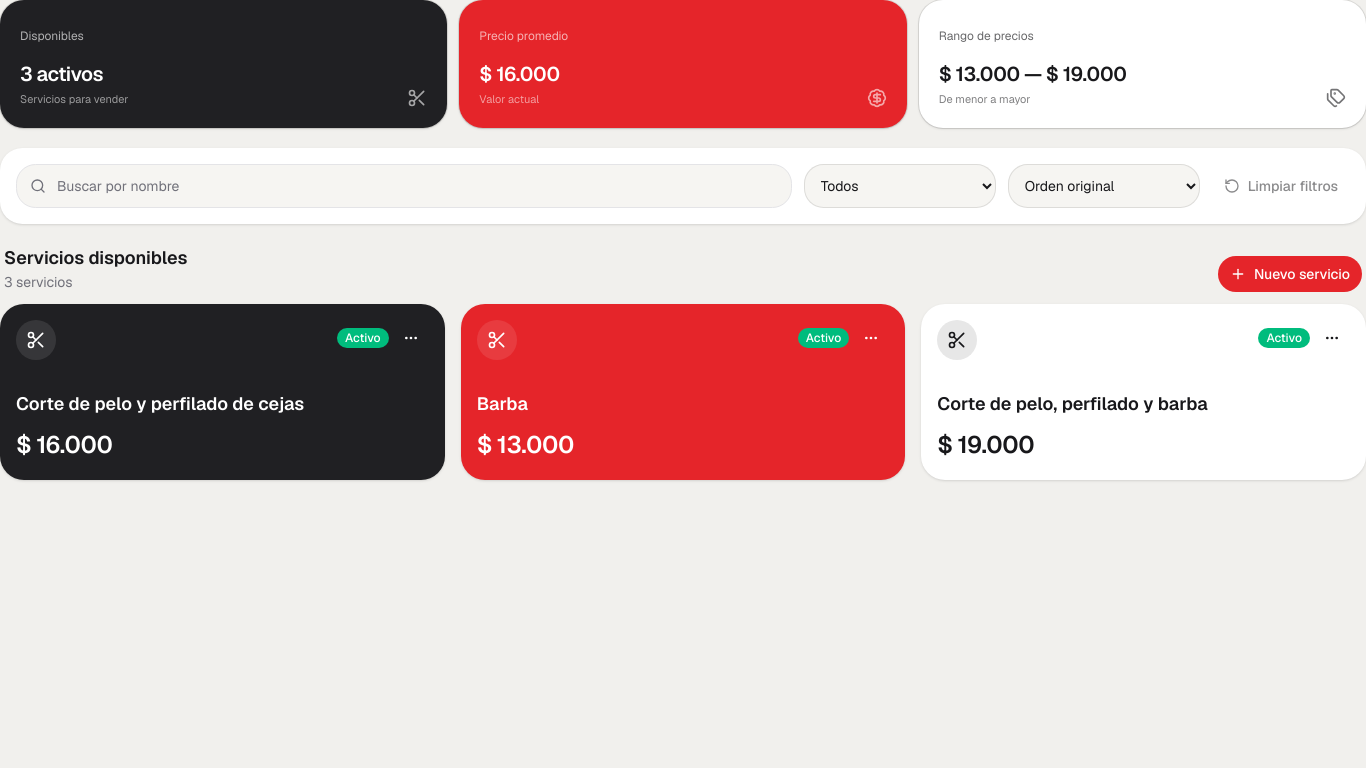
Test: changes service status after confirmation
Step 1. Click the button named "Gestionar Barba" → (871, 338), box [853, 320, 889, 356]
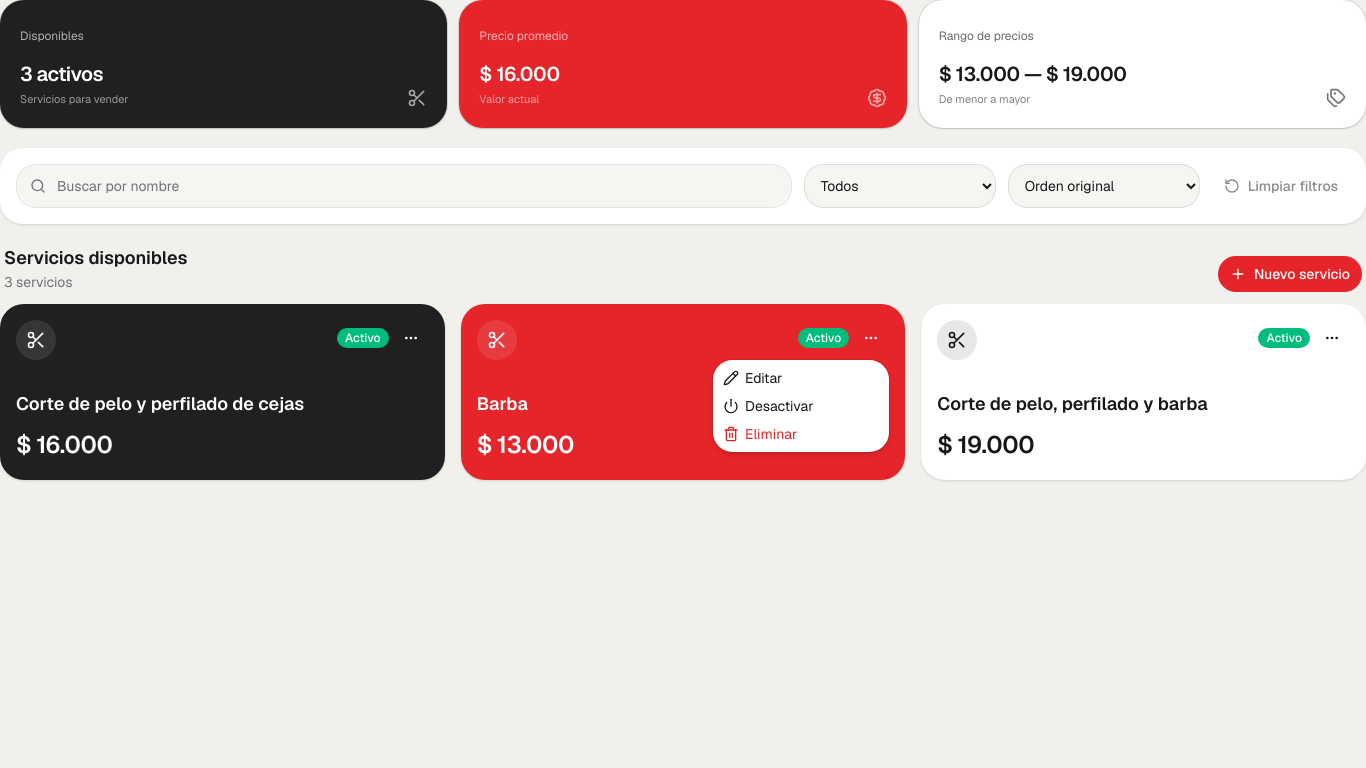
Step 2. Click the menu item "Desactivar" → (768, 406), box [723, 397, 814, 415]
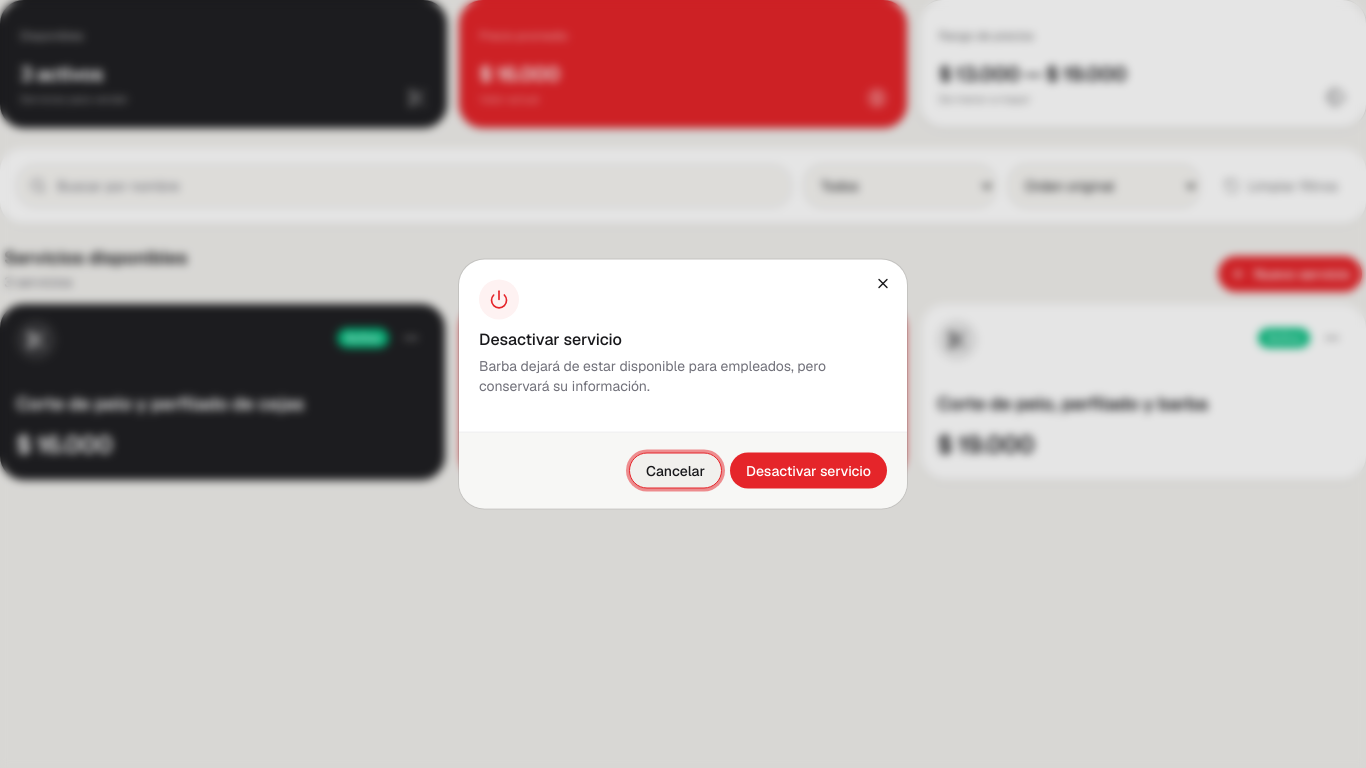
Step 3. Click the button "Desactivar servicio" → (808, 470), box [730, 452, 887, 488]
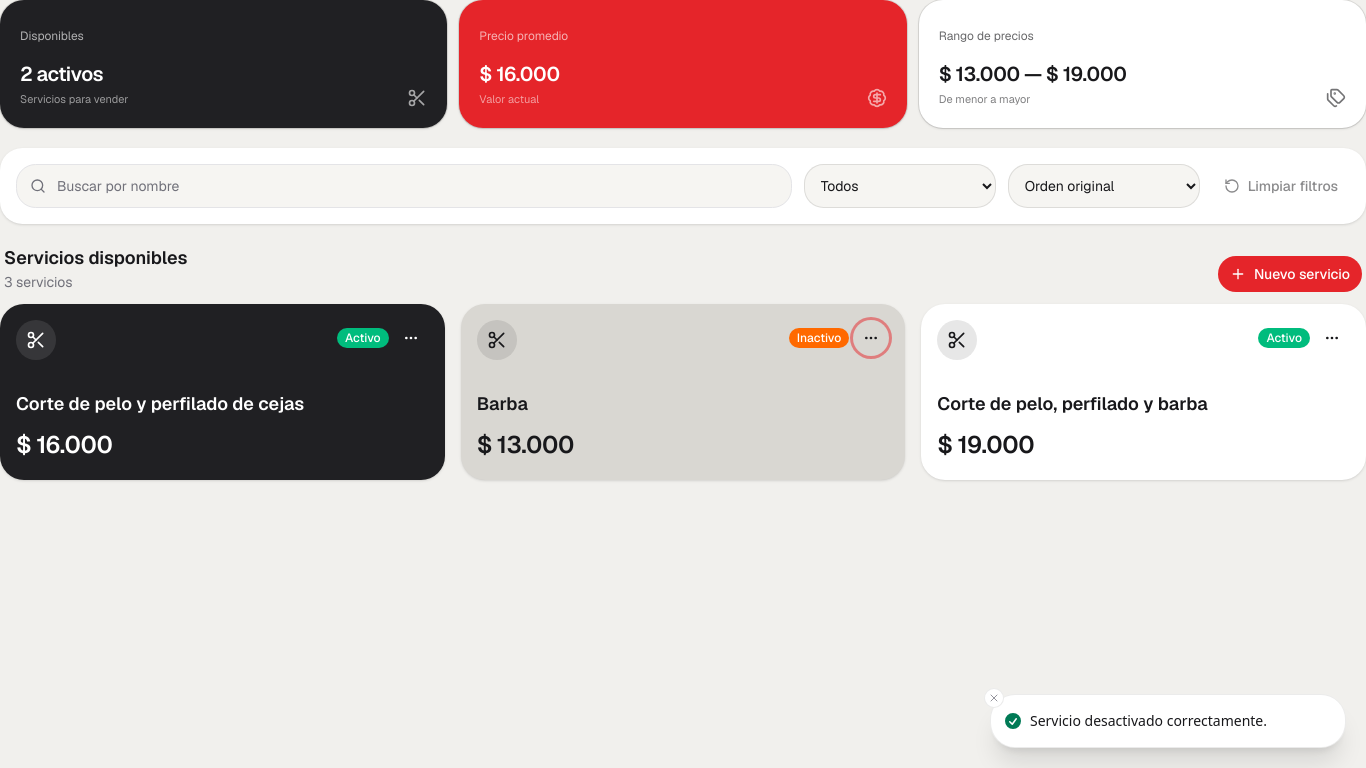
Expected: the list item "Servicio desactivado correctamente." is shown, [990, 694, 1346, 748]
